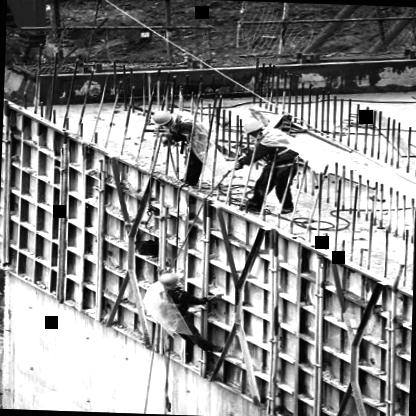helmet: (145, 109, 177, 132), (155, 272, 188, 294), (238, 118, 270, 140)
